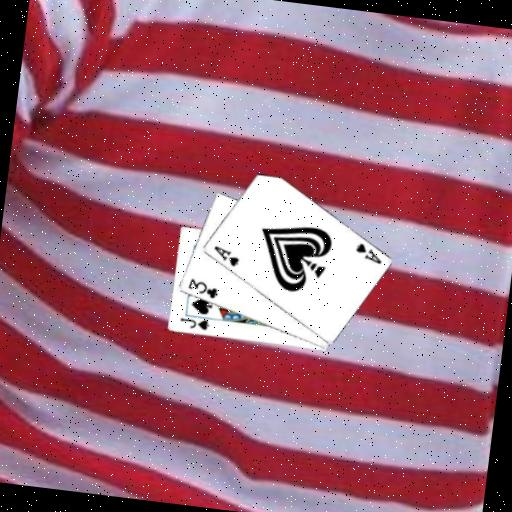3C: (184, 275, 221, 301)
AS: (350, 239, 385, 266), (209, 242, 242, 269)
JS: (177, 314, 212, 333)
